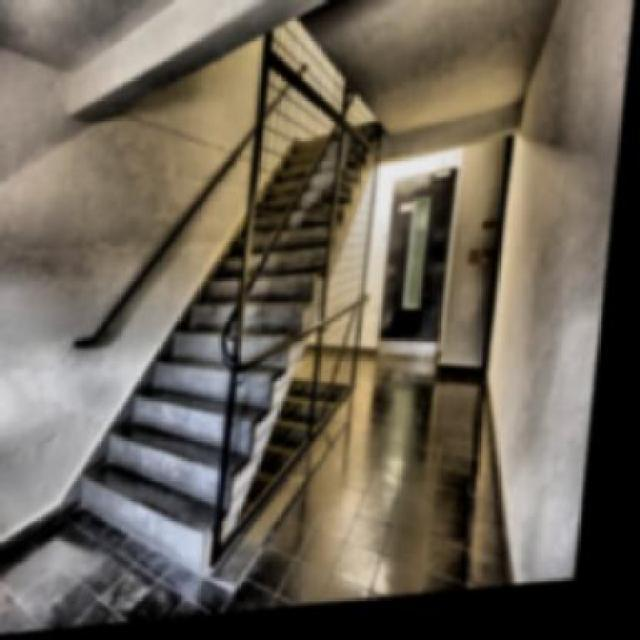stair: (94, 75, 352, 560)
